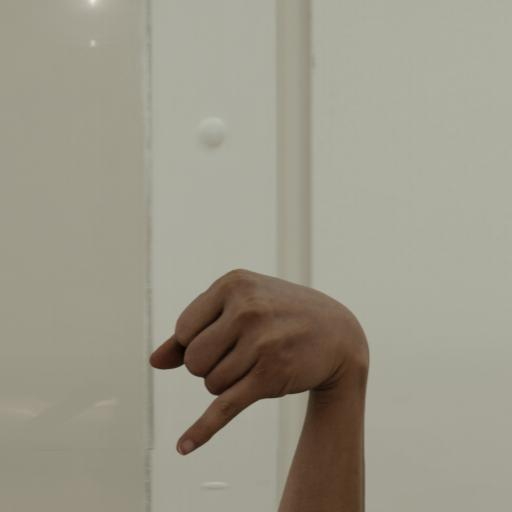J: (136, 260, 386, 464)
